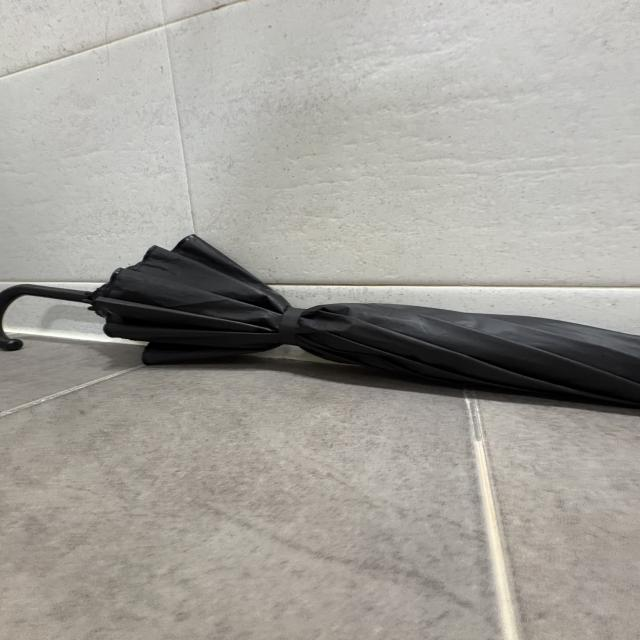umbrella: (2, 235, 640, 415)
